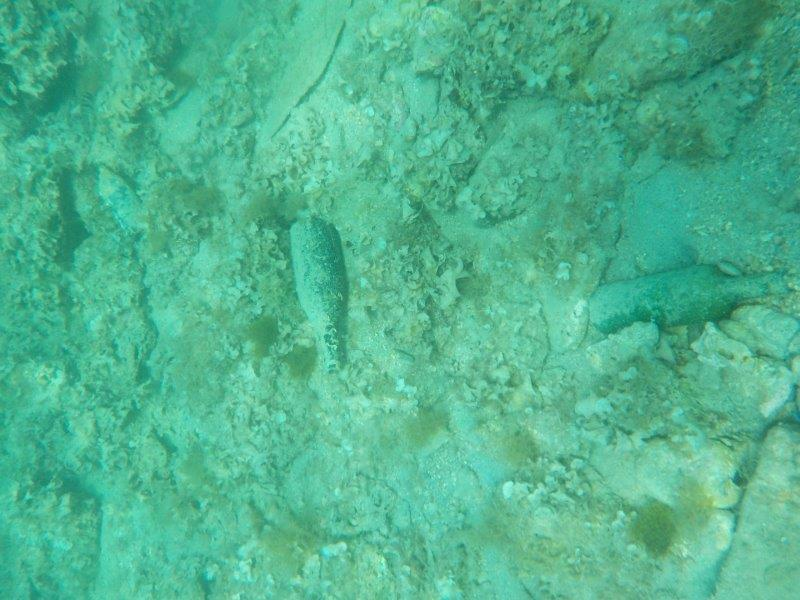bottle: (583, 260, 795, 335), (282, 213, 358, 377), (91, 160, 152, 240)
